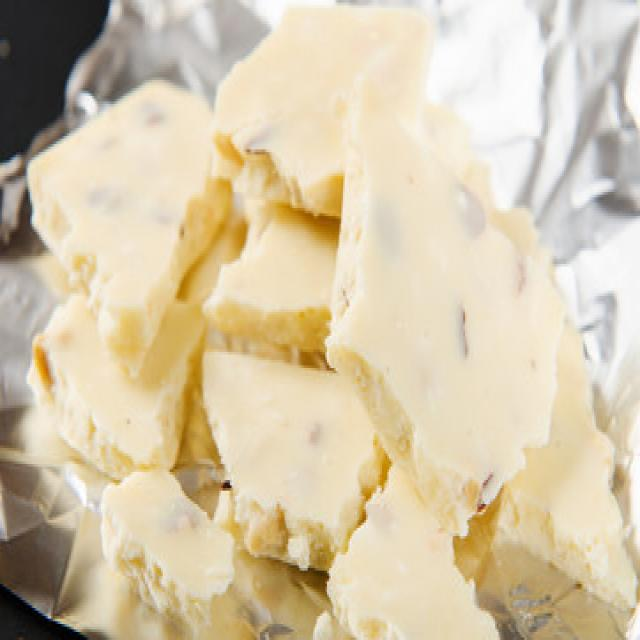Chocolate: (28, 0, 640, 640)
